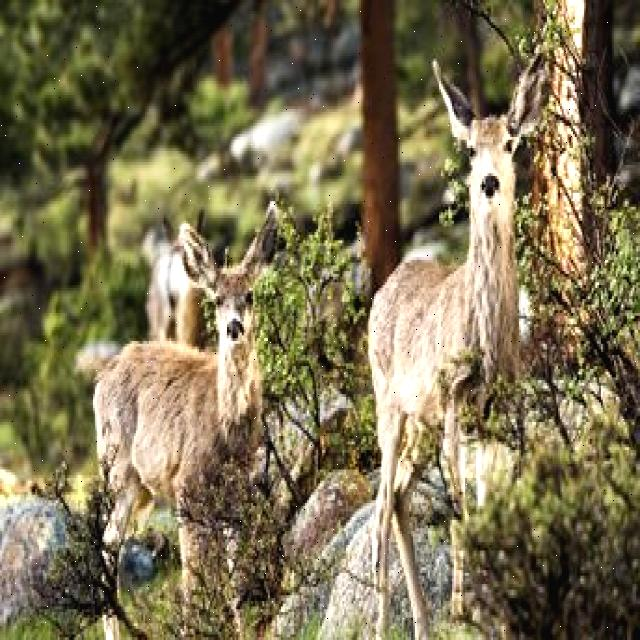deer: (363, 52, 547, 384), (90, 184, 289, 481)
